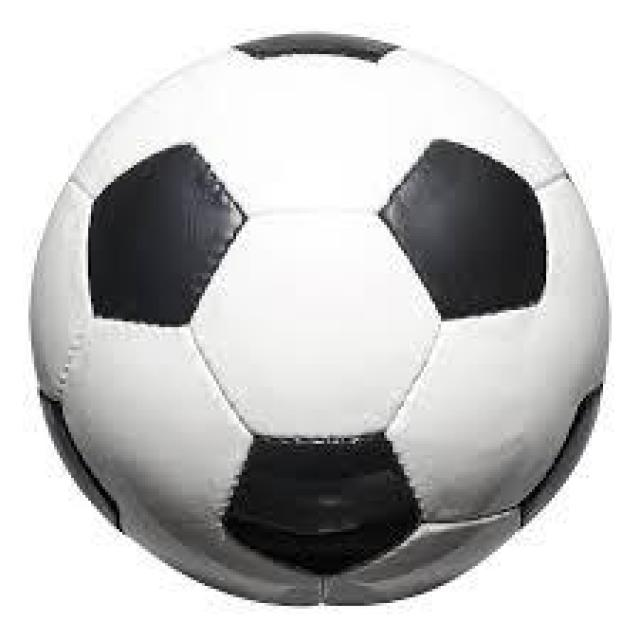Soccer Ball: (28, 34, 606, 612)
